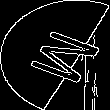M_SE: (11, 23, 99, 87)
